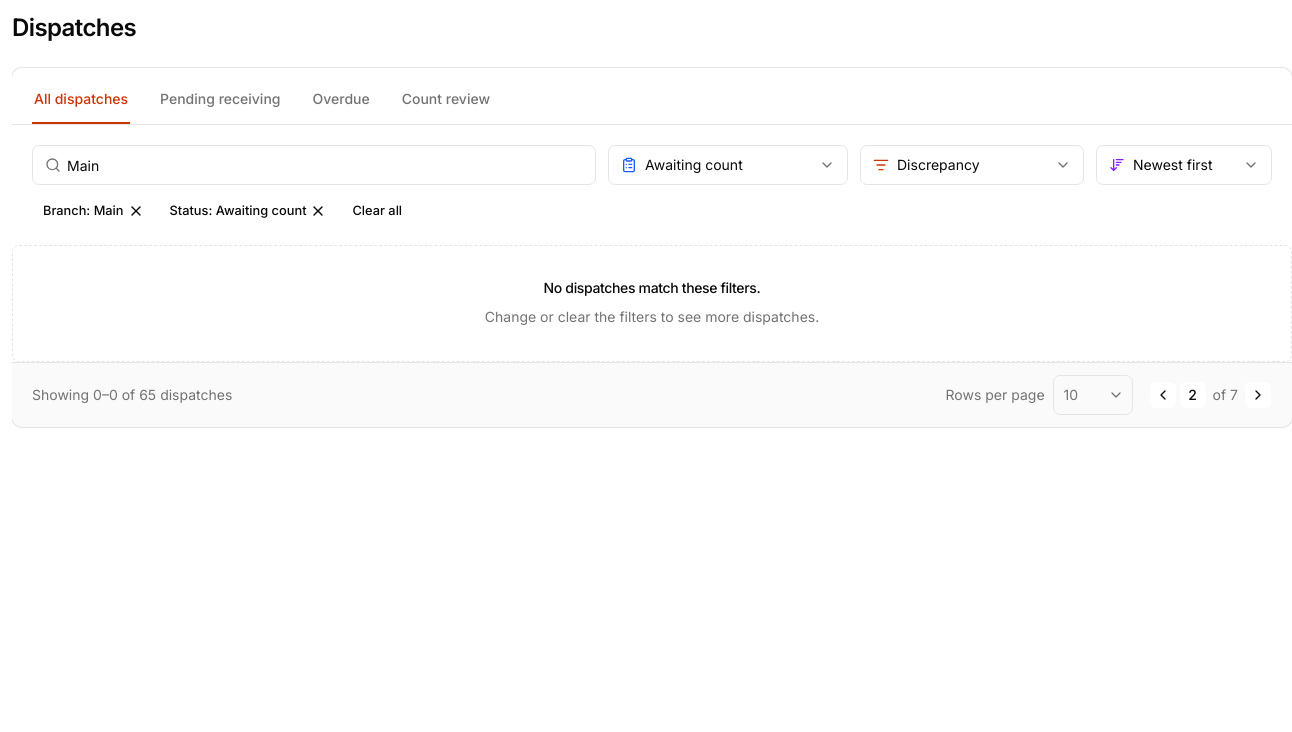
Test: dispatch management › offers 10, 20, 30 and 50 rows and resets pagination while retaining filters
The width and height of the screenshot is (1292, 732).
Later steps or results of the test are not shown.
Click the dropdown named "Rows per page" at (1092, 395), box [1052,375,1132,415]
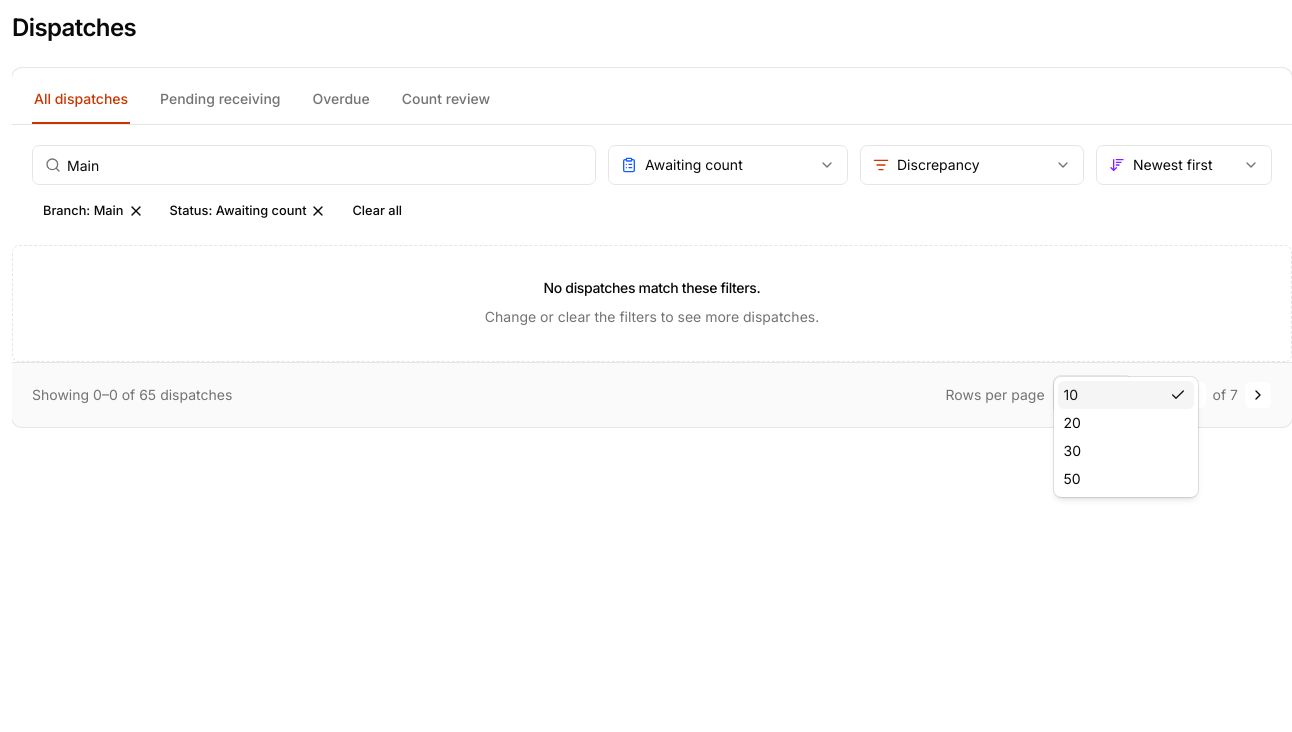
Expected: the options read "10", "20", "30", "50", in this order, [1058,381,1194,409]; [1064,414,1081,431]; [1064,442,1081,459]; [1064,470,1081,487]
